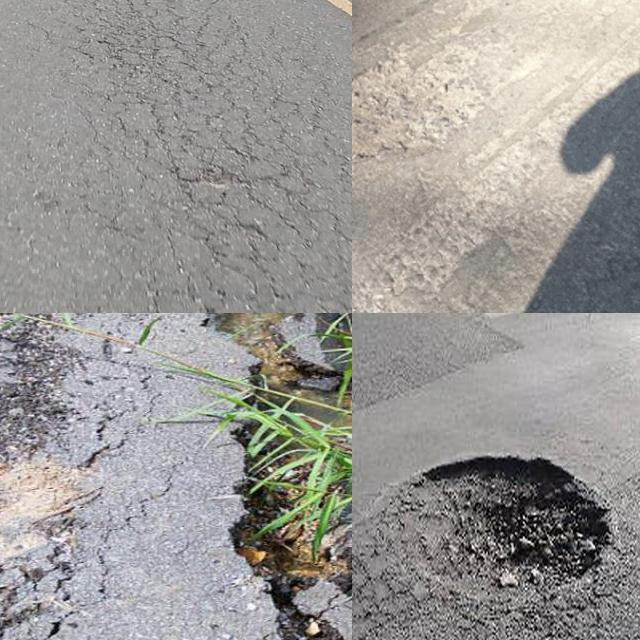Lubang: (391, 456, 608, 591), (352, 62, 489, 152)
Pinggir: (169, 313, 352, 640)
Retak Buaya: (69, 0, 349, 313)
